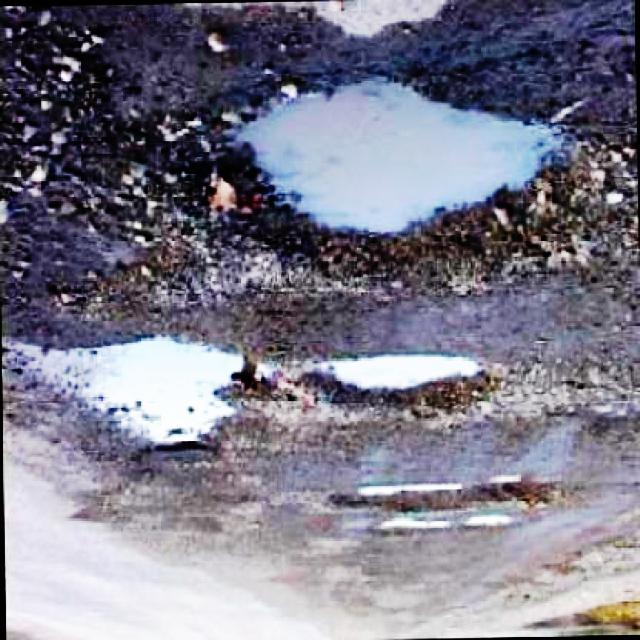pothole: (198, 68, 590, 280), (38, 335, 264, 460), (291, 348, 503, 409), (319, 469, 563, 517)
